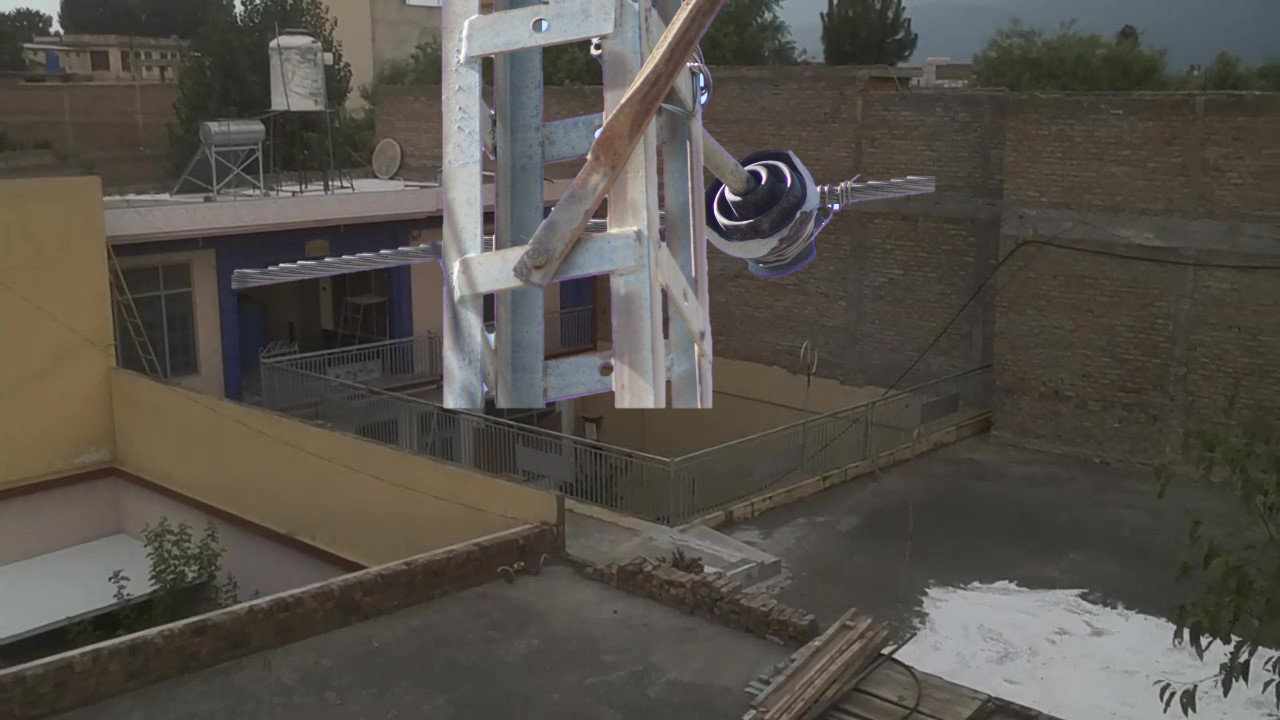defect_pin: (705, 138, 836, 288)
